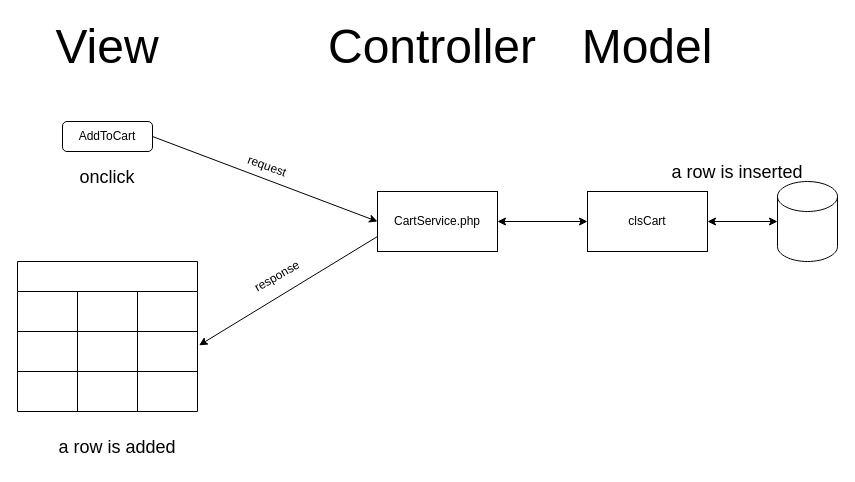
The diagram is 855 pixels wide and 482 high, and some of its shapes have lost their labels. The centre of each missing label's shape, as x and y in pixels:
"database" belongs at point 807,221.
"Table" belongs at point 107,336.
